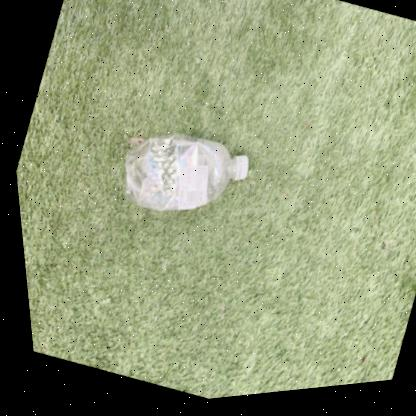Plastic: (121, 137, 244, 213)
